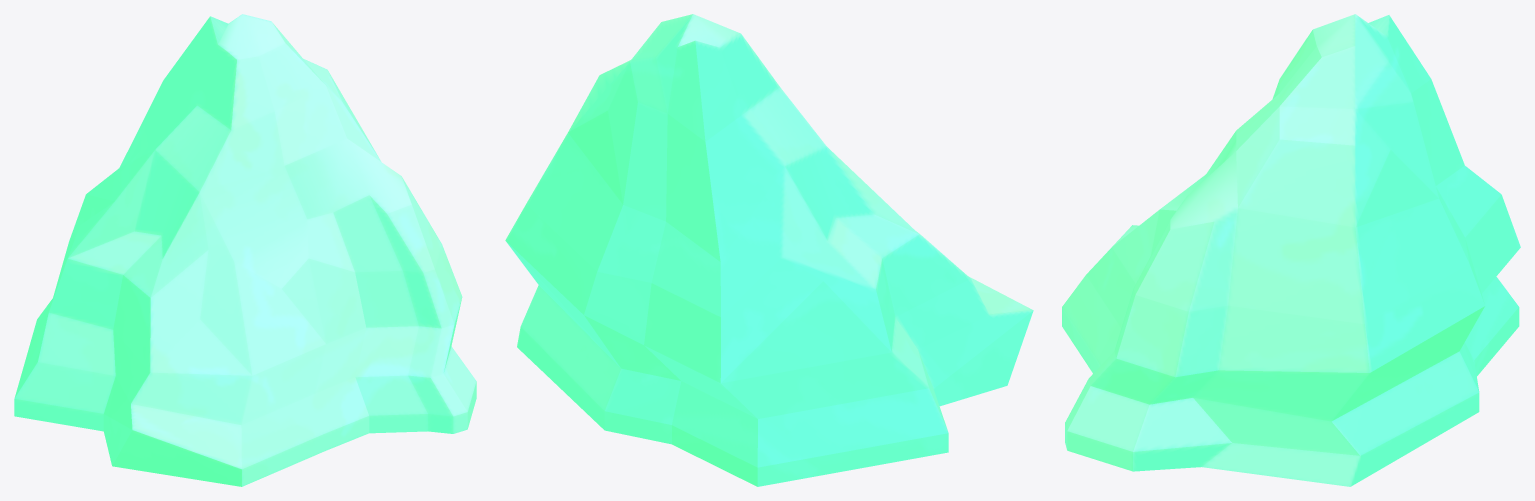
The model's file is OreRock01_Model (1).fbx.
The picture shows the model from 3 angles, left to right: view 1: azimuth 30°, elevation 25°; view 2: azimuth 150°, elevation 25°; view 3: azimuth 270°, elevation 25°; orthographic projection. The views are drawn at different scales.
Parts seen in each view (by area): view 1: pPlane1; view 2: pPlane1; view 3: pPlane1.
Part boxes in pixels (x1,y1,x2,y2): pPlane1: (14, 14, 476, 486); pPlane1: (505, 14, 1033, 486); pPlane1: (1062, 14, 1520, 486).
Bounding box in the file's own units: 5.74 × 4.81 × 5.18.
